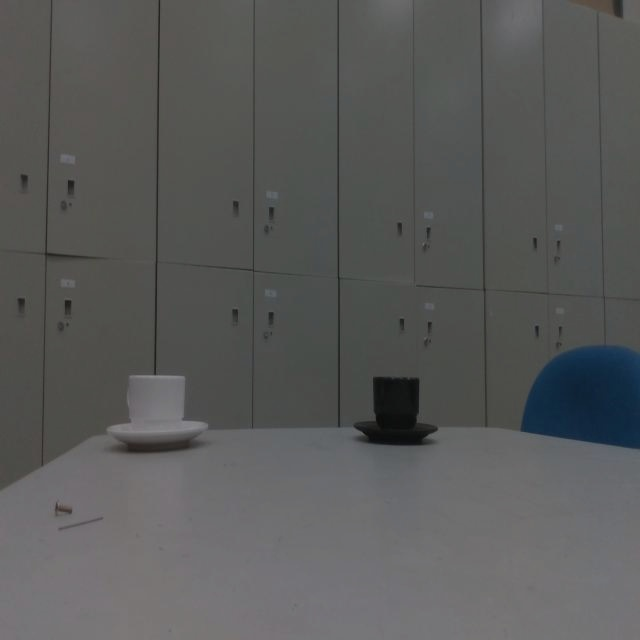black: (352, 373, 438, 450)
white: (103, 363, 212, 458)
